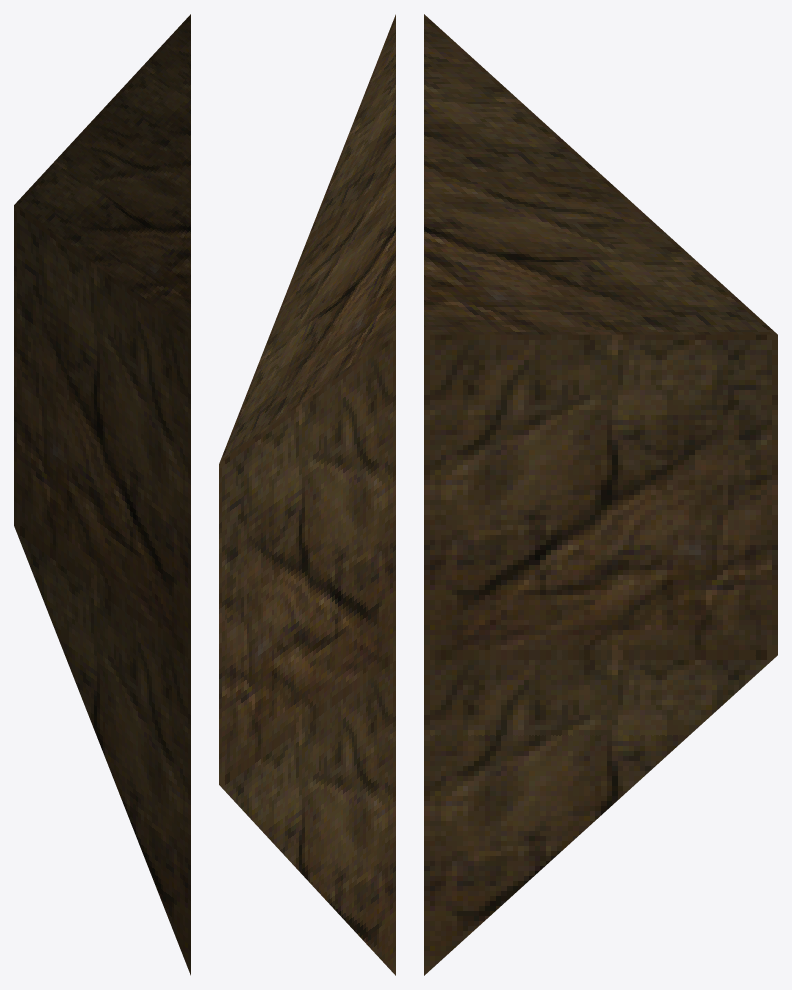
Rendered from FlatWall.dae.
The picture shows the model from 3 angles, left to right: view 1: azimuth 30°, elevation 25°; view 2: azimuth 150°, elevation 25°; view 3: azimuth 270°, elevation 25°; orthographic projection.
Parts seen in each view (by area): view 1: Cube; view 2: Cube; view 3: Cube.
Part boxes in pixels (box(x1,y1,x2,y2)): Cube: box(14, 14, 190, 975); Cube: box(219, 14, 395, 975); Cube: box(424, 14, 777, 975).
Size of the model in its own units: 0 by 1 by 3.
